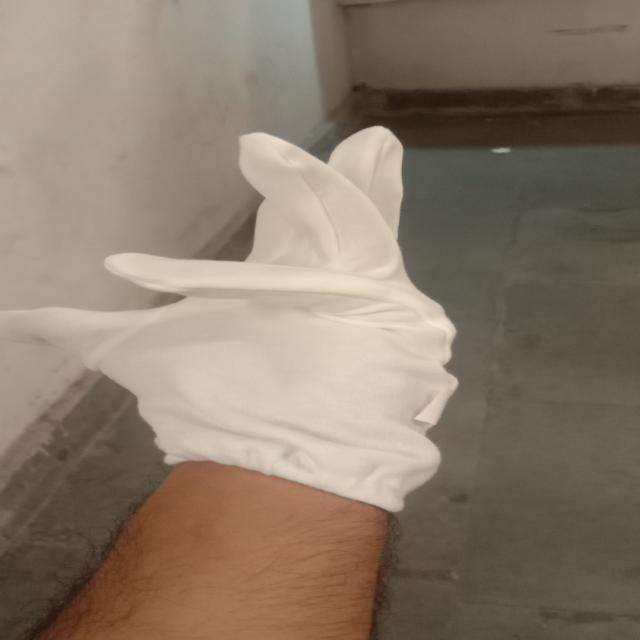glove_hand: (8, 121, 472, 524)
